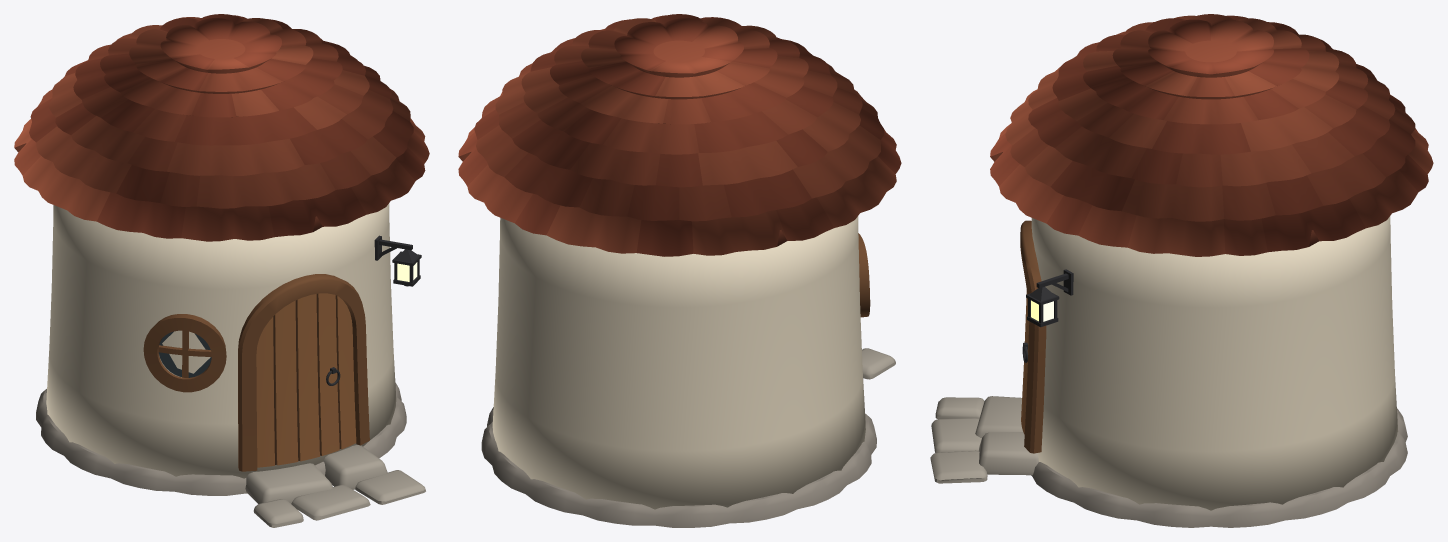
The model's file is bldg_cottage.glb.
The picture shows the model from 3 angles, left to right: view 1: azimuth 30°, elevation 25°; view 2: azimuth 150°, elevation 25°; view 3: azimuth 270°, elevation 25°; orthographic projection. The views are drawn at different scales.
Visible parts, largest first — view 1: Roof, Walls, Door, Steps, DoorFrame, Base, Window, Lantern; view 2: Walls, Roof, Base, Window, Steps; view 3: Walls, Roof, Base, Steps, DoorFrame, Lantern, Door.
Part boxes in pixels (<box>): Roof: <box>14,14,429,241</box>; Walls: <box>46,203,396,478</box>; Door: <box>256,293,356,467</box>; Steps: <box>245,445,425,527</box>; DoorFrame: <box>238,274,369,471</box>; Base: <box>36,382,406,495</box>; Window: <box>143,314,226,392</box>; Lantern: <box>374,235,421,286</box>; Walls: <box>492,216,865,509</box>; Roof: <box>458,14,901,256</box>; Base: <box>481,407,876,527</box>; Window: <box>858,233,870,317</box>; Steps: <box>862,348,895,379</box>; Walls: <box>1031,216,1398,510</box>; Roof: <box>990,14,1433,256</box>; Base: <box>1031,408,1407,527</box>; Steps: <box>930,396,1038,483</box>; DoorFrame: <box>1020,220,1046,453</box>; Lantern: <box>1026,269,1073,327</box>; Door: <box>1021,290,1029,434</box>.
Size of the model in its own units: 2.98 by 2.96 by 3.38.
